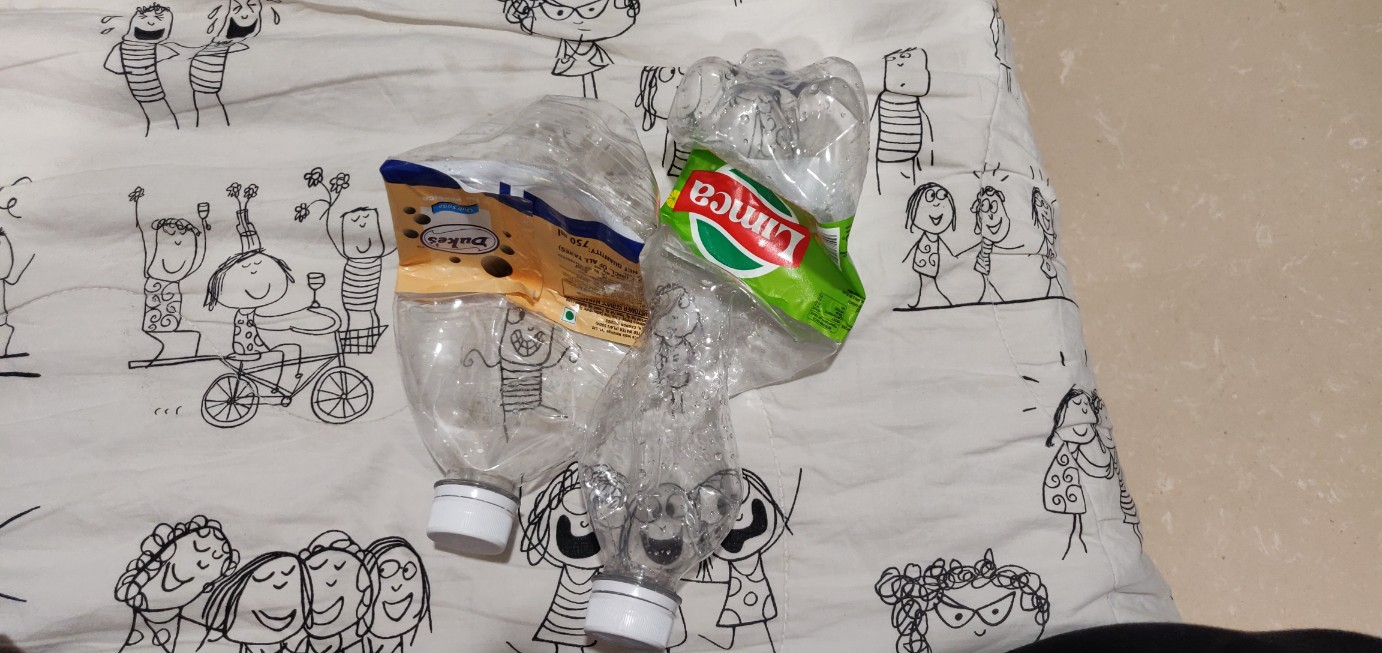Electronics: (554, 33, 915, 653), (355, 69, 690, 597)
